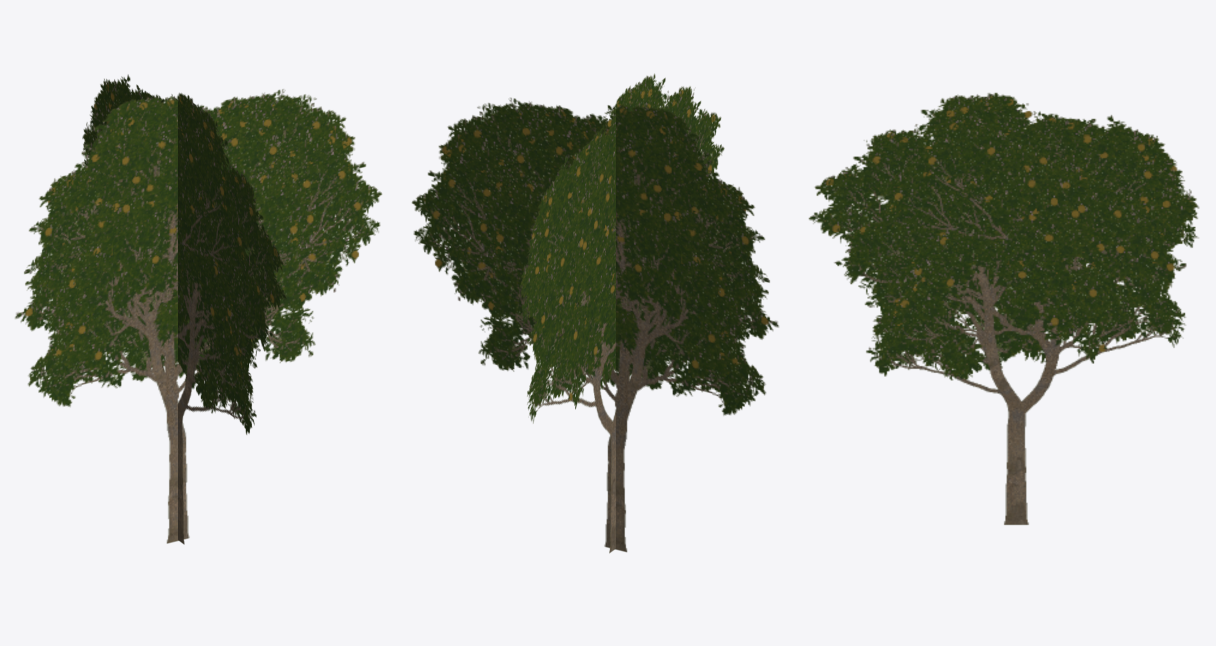
File: CitrusSinensis.glb
The picture shows the model from 3 angles, left to right: view 1: azimuth 30°, elevation 25°; view 2: azimuth 150°, elevation 25°; view 3: azimuth 270°, elevation 25°; orthographic projection. The views are drawn at different scales.
Parts seen in each view (by area): view 1: mesh__mat_billboard_13; view 2: mesh__mat_billboard_13; view 3: mesh__mat_billboard_13.
Part boxes in pixels (x1,y1,x2,y2): mesh__mat_billboard_13: [15, 74, 381, 544]; mesh__mat_billboard_13: [412, 73, 778, 553]; mesh__mat_billboard_13: [808, 92, 1199, 524].
Bounding box in the file's own units: 5.03 × 6.1 × 4.87.
1 material, 1 textured.
